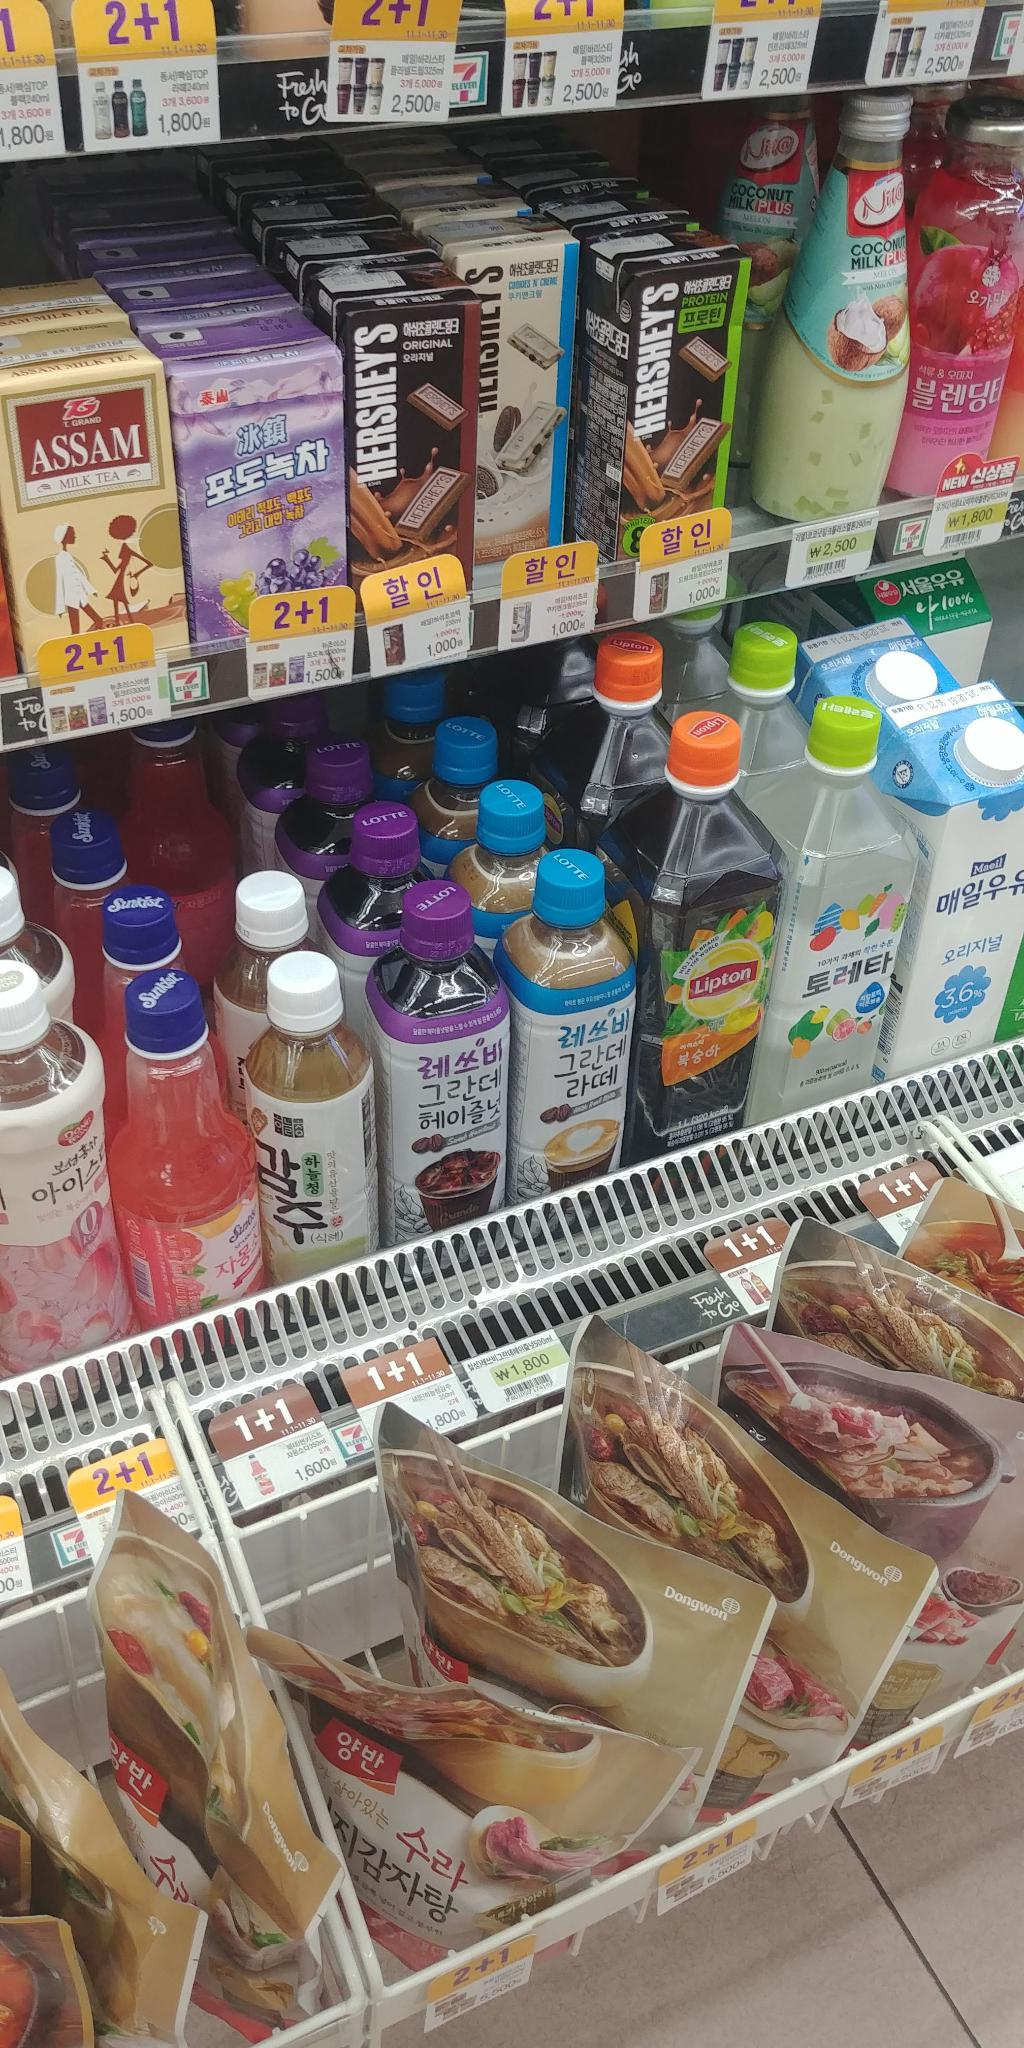letsbe_grande_hazelnut: (364, 857, 521, 1267)
